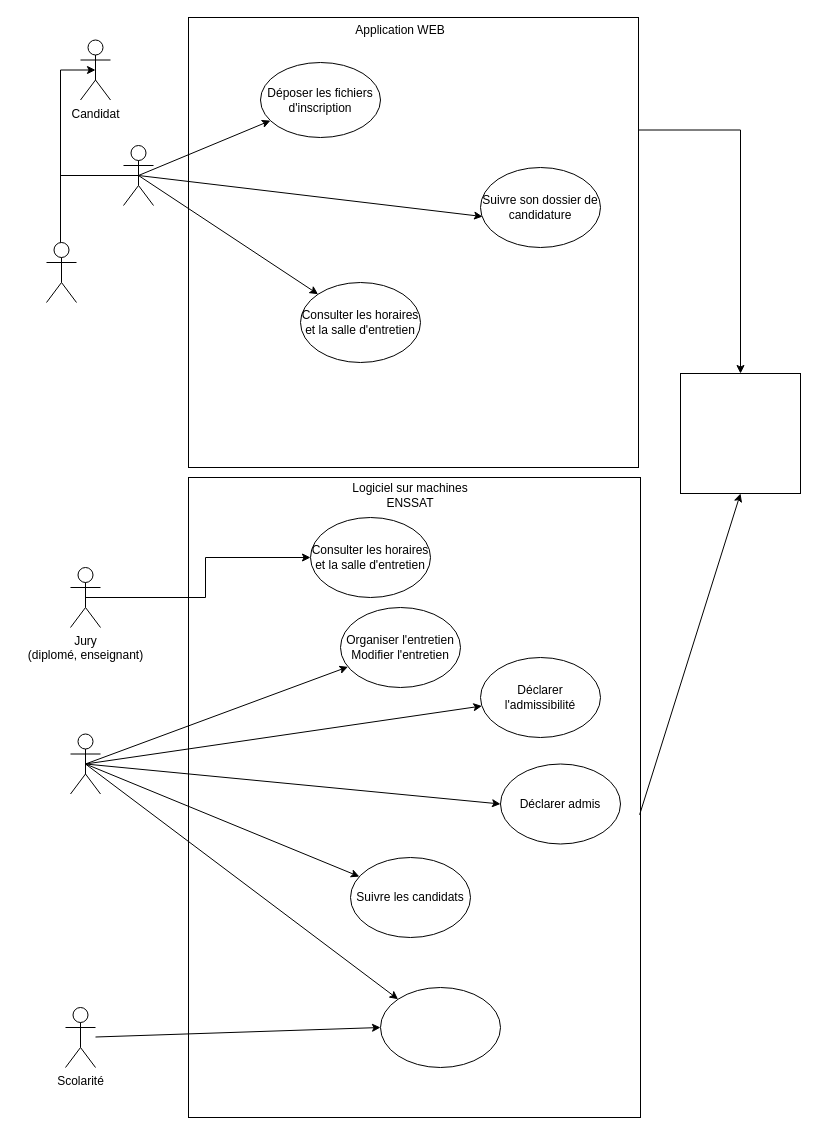
Image size: 818x1135. Some labels were removed from this diagram. The centre of each missing label's shape, as x and y in pixels:
"Accéder aux dossiers des étudiants" goes at [440,1027].
"Candidat SCEI" goes at [61,272].
"Candidat sur titre" goes at [138,175].
"Gestionnaire de concours" goes at [85,763].
"Serveur" goes at [740,433].
